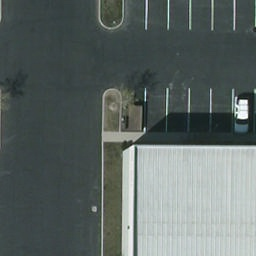car: (232, 95, 250, 136)
